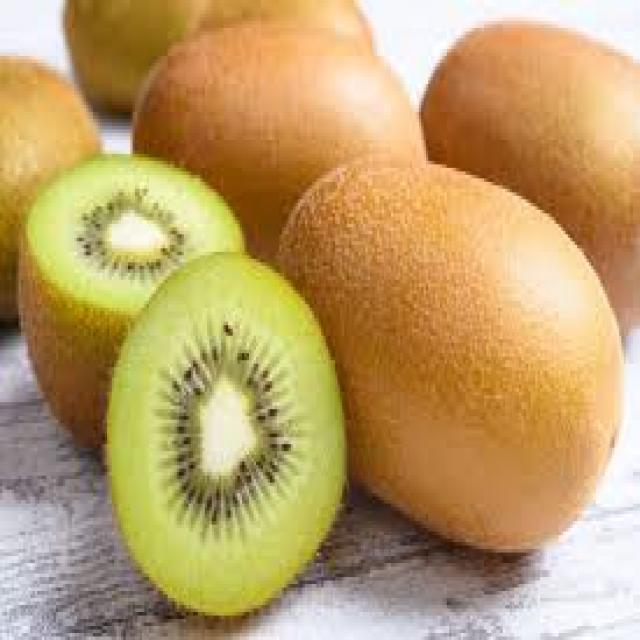organic waste: (270, 147, 621, 556), (100, 248, 347, 622), (130, 17, 424, 273), (417, 17, 638, 329), (16, 147, 242, 444), (0, 49, 102, 322), (62, 0, 195, 115), (175, 0, 370, 56)
